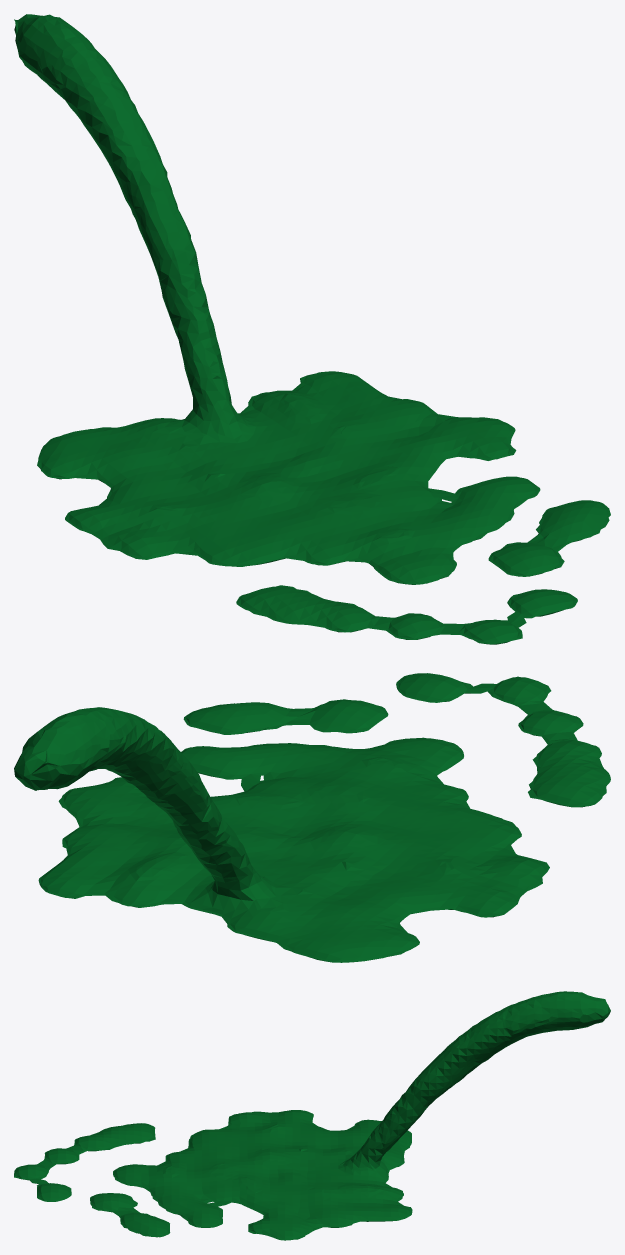
File: fluid_7.fbx
3 renders of one model, top to bottom at view 1: azimuth 30°, elevation 25°; view 2: azimuth 150°, elevation 25°; view 3: azimuth 270°, elevation 25°, orthographic. The views are drawn at different scales.
Visible parts, largest first — view 1: Cube; view 2: Cube; view 3: Cube.
Part boxes in pixels (x1=…): Cube: x1=14, y1=14, x2=610, y2=644; Cube: x1=14, y1=673, x2=610, y2=962; Cube: x1=14, y1=991, x2=610, y2=1240.
Bounding box in the file's own units: 266 × 177 × 518.
